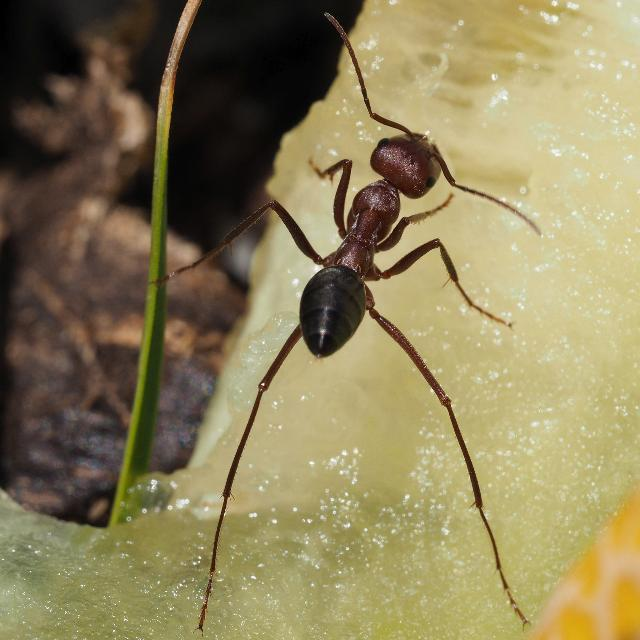Cataglyphis: (247, 98, 473, 398)
